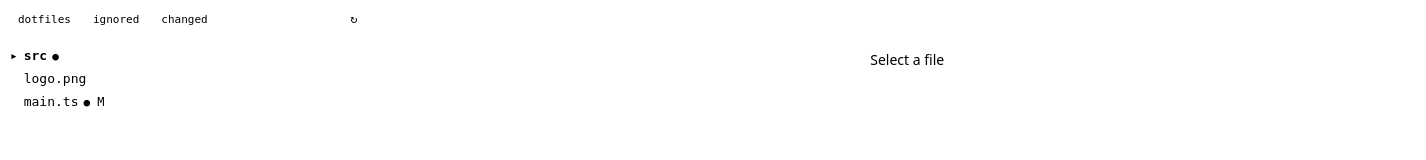
Test: file selection and the content pane › clicking a file loads it and renders highlighted, numbered lines
Step 1. Click the list item with class "tree-row" showing "main.ts ● M" → {"x": 64, "y": 102}, box x1=24 y1=94 x2=104 y2=109
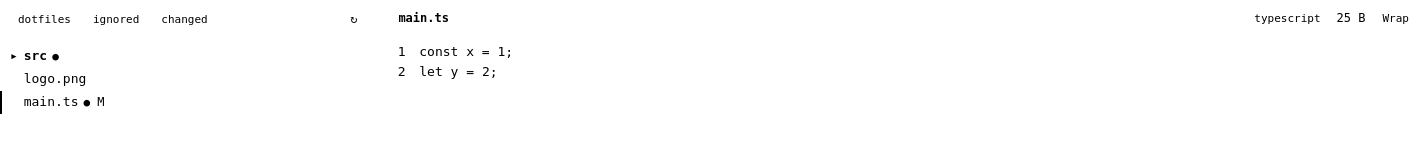
Expected: the header with test id "file-header" shows "main.ts", x1=398 y1=11 x2=449 y2=25
Expected: the number of elements with class "code-row" is 2, x1=398 y1=44 x2=514 y2=59; x1=398 y1=64 x2=498 y2=79
Expected: the text "const" is shown, x1=420 y1=44 x2=459 y2=59
